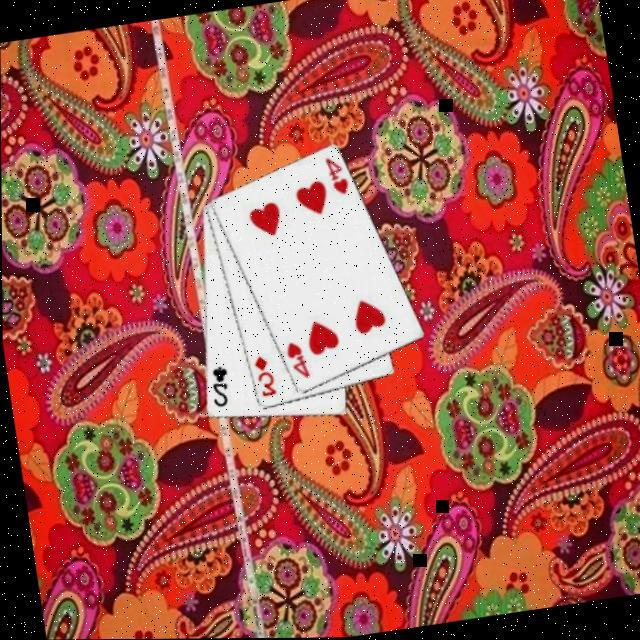2C: (206, 364, 236, 413)
3D: (253, 352, 281, 402)
4H: (283, 338, 315, 385), (323, 153, 353, 200)
